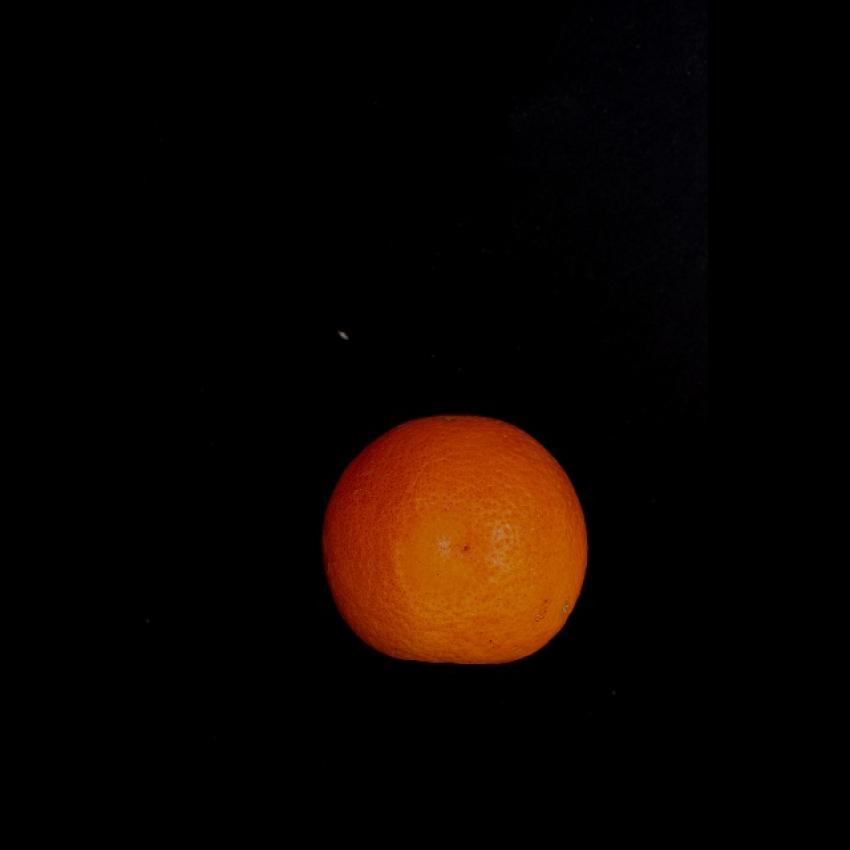Mal estado: (316, 404, 599, 674)
